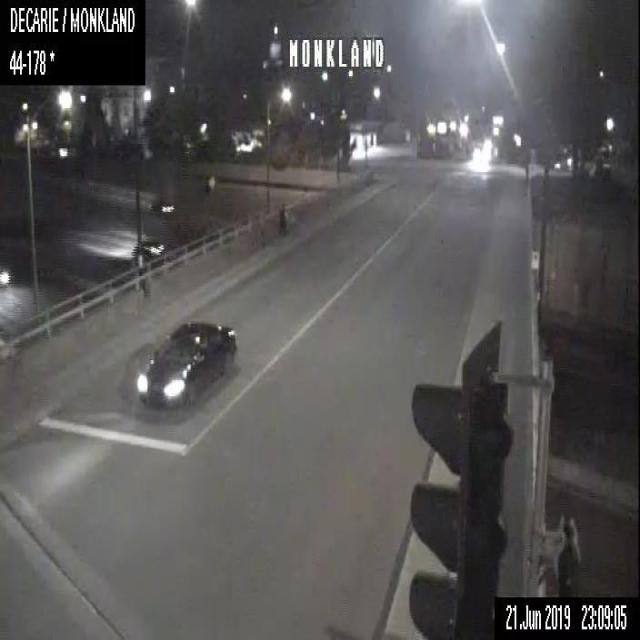pedestrian: (276, 201, 286, 235)
vehicle: (136, 314, 237, 406), (148, 196, 175, 215), (142, 238, 165, 258), (131, 240, 137, 263)
